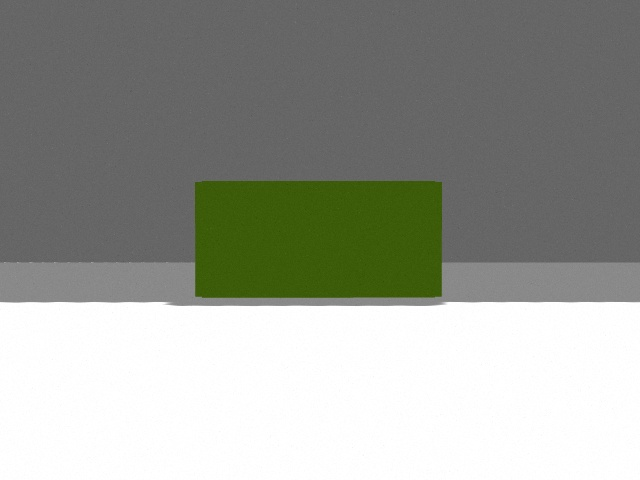green_drop_zone: (195, 181, 442, 298)
